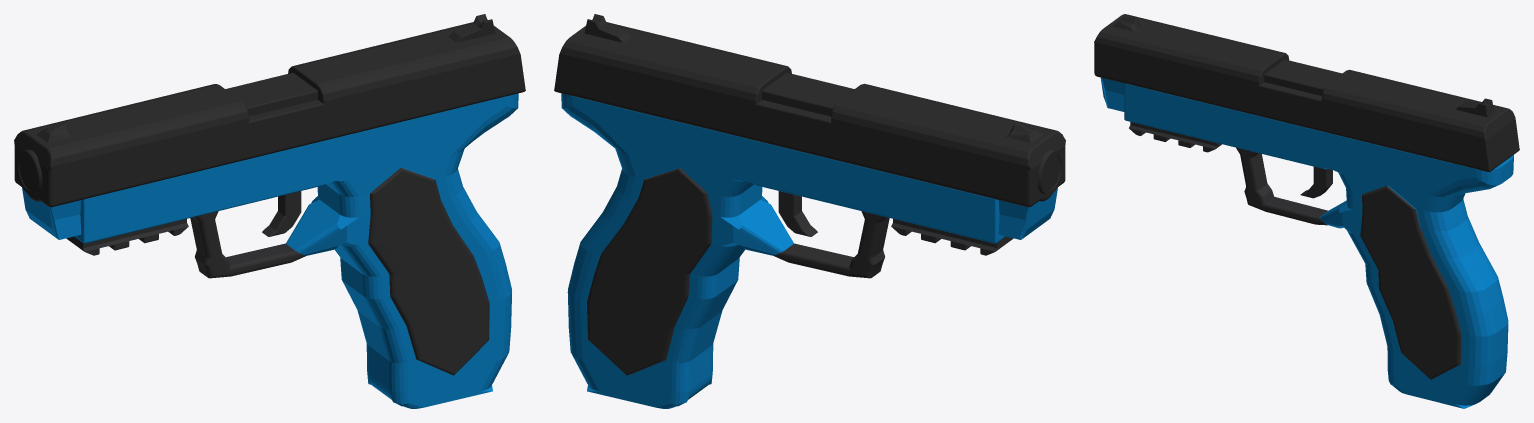
The model's file is low_poly_blue_handgun_pistol.glb.
The picture shows the model from 3 angles, left to right: view 1: azimuth 30°, elevation 25°; view 2: azimuth 150°, elevation 25°; view 3: azimuth 330°, elevation 25°; orthographic projection. The views are drawn at different scales.
Visible parts, largest first — view 1: grip/reciever, slide; view 2: grip/reciever, slide; view 3: grip/reciever, slide.
Boxes of the visible parts, x1=… form: grip/reciever: x1=22, y1=93, x2=518, y2=408; slide: x1=14, y1=14, x2=525, y2=207; grip/reciever: x1=561, y1=93, x2=1057, y2=408; slide: x1=554, y1=14, x2=1065, y2=207; grip/reciever: x1=1100, y1=77, x2=1513, y2=408; slide: x1=1094, y1=14, x2=1519, y2=172.
Size of the model in its own units: 5.03 by 3.57 by 0.6684.
2 materials, 2 textured.
